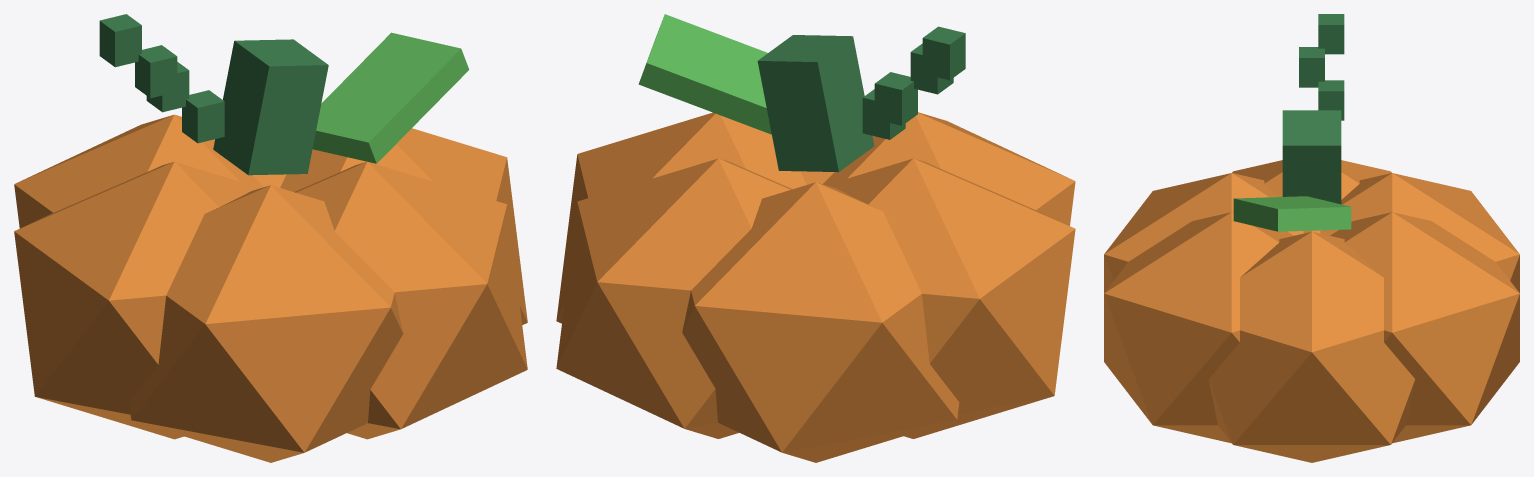
Rendered from CatCafe_Accessory_PumpkinHat.glb.
The picture shows the model from 3 angles, left to right: view 1: azimuth 30°, elevation 25°; view 2: azimuth 150°, elevation 25°; view 3: azimuth 270°, elevation 25°; orthographic projection. The views are drawn at different scales.
Parts seen in each view (by area): view 1: CatCafe_Accessory_PumpkinHat; view 2: CatCafe_Accessory_PumpkinHat; view 3: CatCafe_Accessory_PumpkinHat.
Part boxes in pixels (box(x1,y1,x2,y2)): CatCafe_Accessory_PumpkinHat: box(14, 14, 527, 462); CatCafe_Accessory_PumpkinHat: box(556, 14, 1075, 462); CatCafe_Accessory_PumpkinHat: box(1104, 14, 1519, 462).
Bounding box in the file's own units: 0.6992 × 0.5915 × 0.6407.
1 material, 1 textured.
